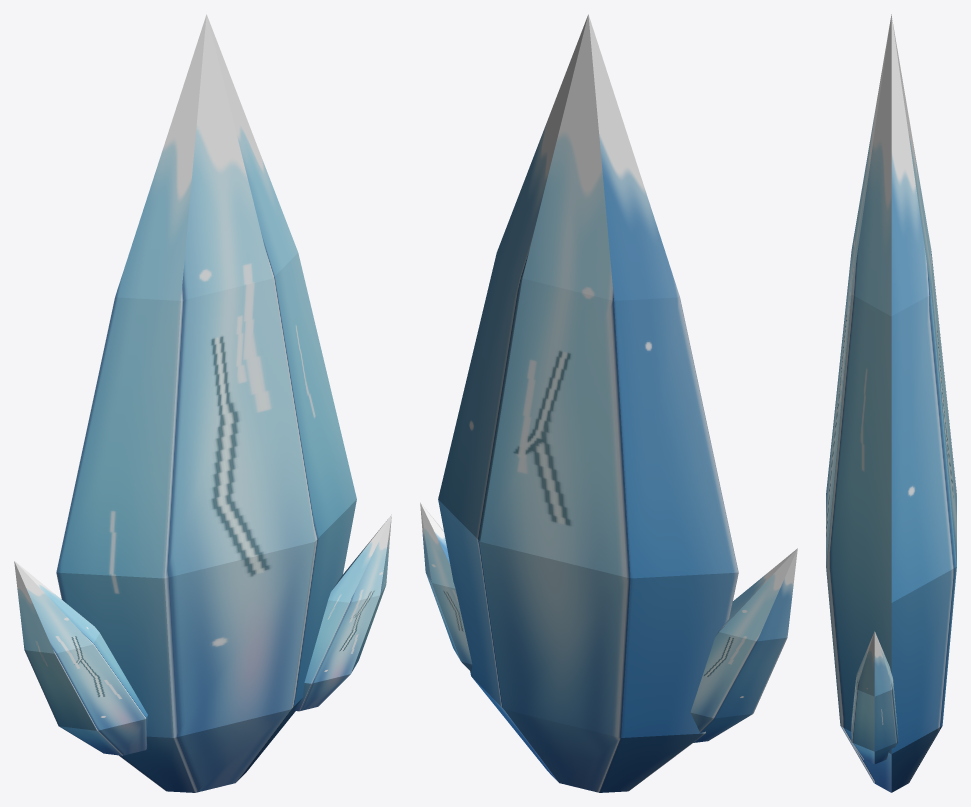
The model's file is lotuspetal_c.glb.
3 views of the same model, side by side, from view 1: azimuth 30°, elevation 25°; view 2: azimuth 150°, elevation 25°; view 3: azimuth 270°, elevation 25° (orthographic).
Parts seen in each view (by area): view 1: petal; view 2: petal; view 3: petal.
Boxes of the visible parts, <box> form: petal: <box>14,14,391,792</box>; petal: <box>420,14,797,792</box>; petal: <box>826,14,956,792</box>.
Bounding box in the file's own units: 0.515 × 1 × 0.1562.
1 material, 1 textured.
